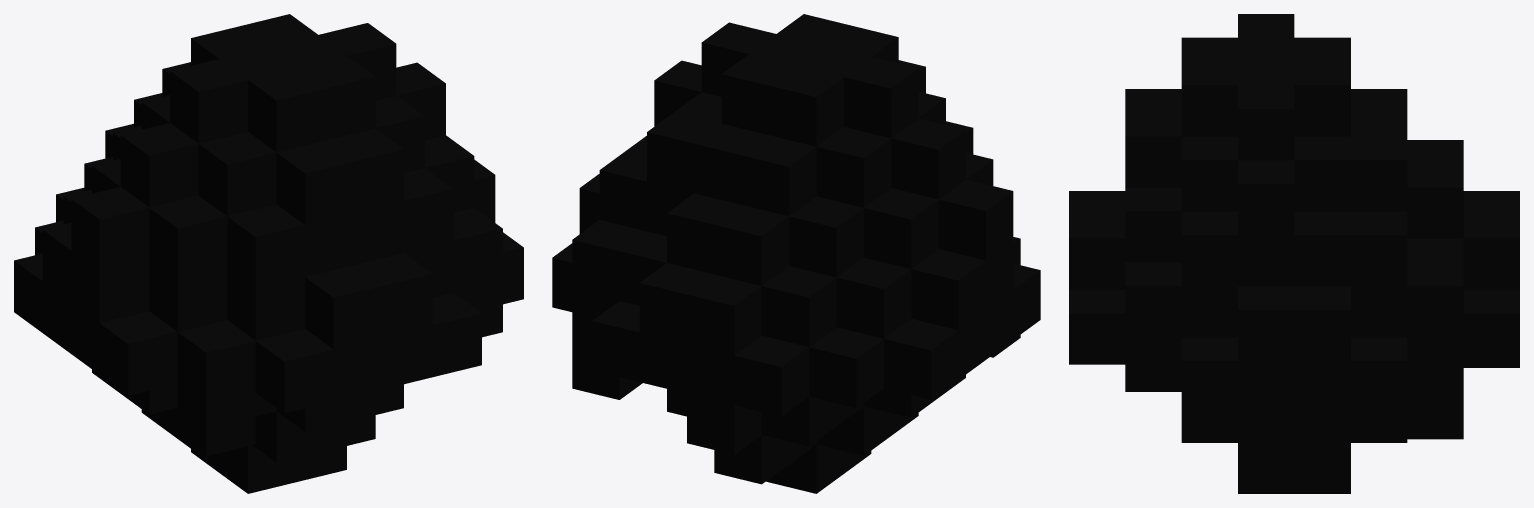
Rendered from obstacle_1.fbx.
The picture shows the model from 3 angles, left to right: view 1: azimuth 30°, elevation 25°; view 2: azimuth 150°, elevation 25°; view 3: azimuth 270°, elevation 25°; orthographic projection. The views are drawn at different scales.
Visible parts, largest first — view 1: obstacle_1; view 2: obstacle_1; view 3: obstacle_1.
Boxes of the visible parts, <box> form: obstacle_1: <box>14,14,523,493</box>; obstacle_1: <box>552,14,1040,493</box>; obstacle_1: <box>1069,14,1519,493</box>.
Size of the model in its own units: 301 by 301 by 301.
